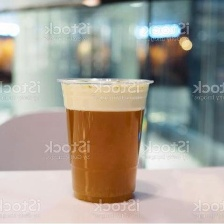glass: (42, 68, 158, 207)
